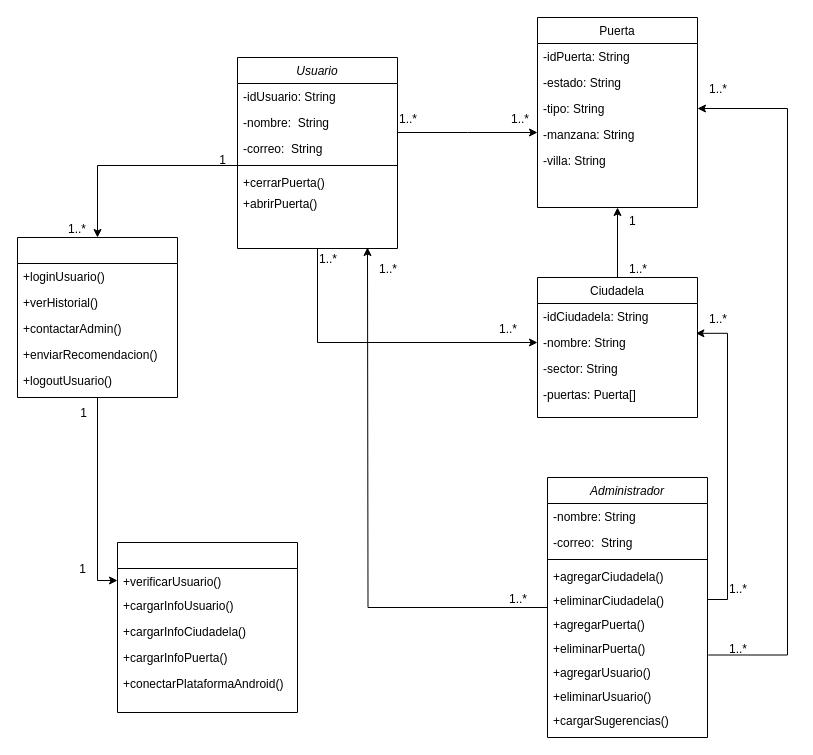
The diagram is 813 pixels wide and 755 high, and some of its shapes have lost their labels. The box of each missing label's shape, as (x1, y1, x2, y2) in pixels:
Aplicacion: (16, 236, 178, 398)
Firebase: (116, 542, 298, 712)
